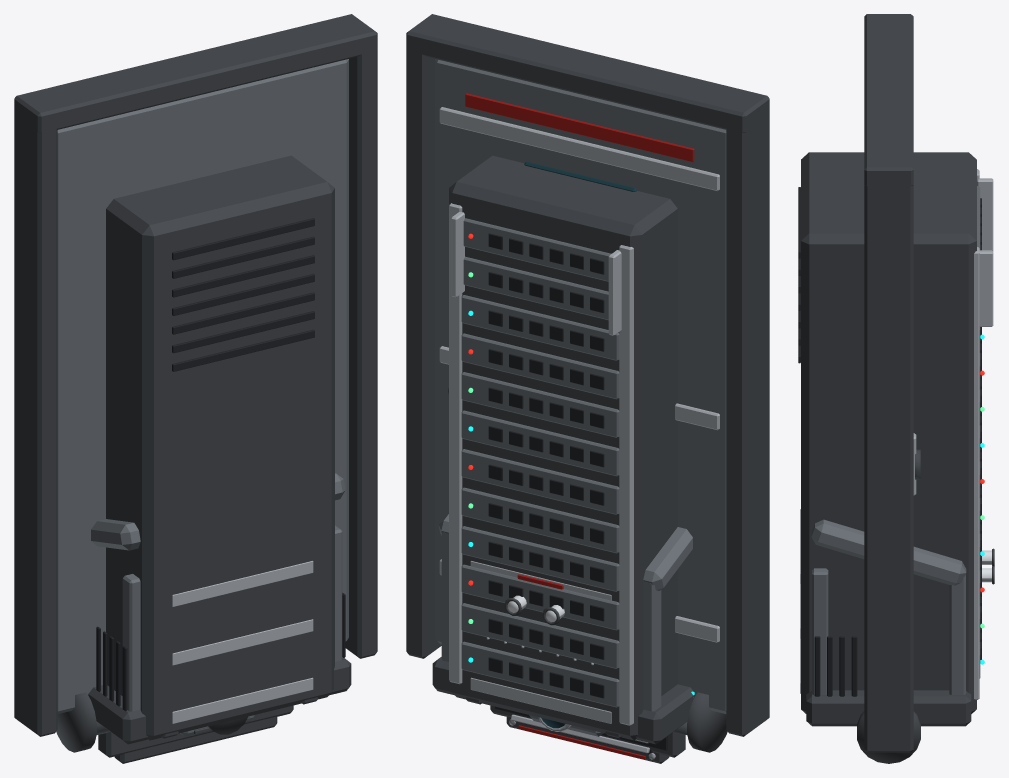
File: props.glb
3 views of the same model, side by side, from view 1: azimuth 30°, elevation 25°; view 2: azimuth 150°, elevation 25°; view 3: azimuth 270°, elevation 25° (orthographic). The views are drawn at different scales.
Visible parts, largest first — view 1: ServerRack, Door, Console, Crate, Pipe, VentGrate, NeonSign; view 2: ServerRack, Door, Console, Crate, VentGrate, Pipe, NeonSign, Turret; view 3: ServerRack, Door, Console, Pipe, Turret.
Boxes of the visible parts, x1,y1,x2,y2 form: ServerRack: [106, 155, 334, 740]; Door: [14, 14, 377, 736]; Console: [88, 473, 351, 744]; Crate: [161, 561, 318, 738]; Pipe: [56, 692, 110, 752]; VentGrate: [114, 716, 277, 763]; NeonSign: [98, 705, 293, 757]; ServerRack: [449, 155, 677, 740]; Door: [406, 14, 769, 736]; Console: [432, 511, 695, 744]; Crate: [465, 561, 622, 738]; VentGrate: [506, 714, 669, 763]; Pipe: [673, 692, 727, 752]; NeonSign: [490, 705, 685, 757]; Turret: [504, 595, 564, 625]; ServerRack: [798, 152, 993, 713]; Door: [864, 14, 920, 752]; Console: [806, 519, 971, 726]; Pipe: [857, 711, 920, 763]; Turret: [982, 548, 994, 584].
Bounding box in the file's own units: 1.34 × 2.56 × 0.7152.
